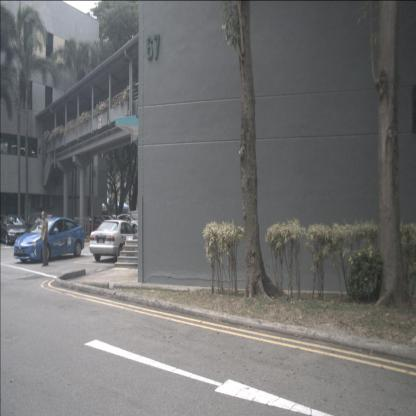human-pedestrian-adult: (38, 211, 48, 267)
vehicle-car: (13, 217, 84, 263), (90, 220, 140, 261), (0, 215, 30, 245), (22, 213, 54, 241), (82, 215, 113, 237), (116, 214, 140, 233)
